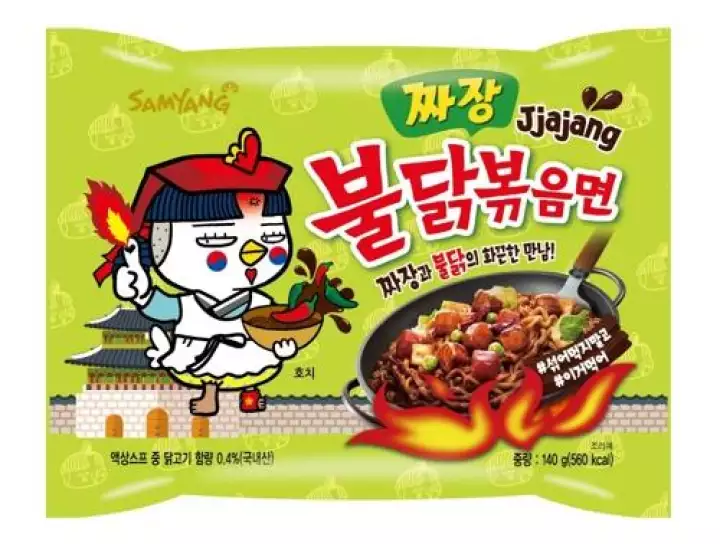Snack: (34, 24, 681, 523)
